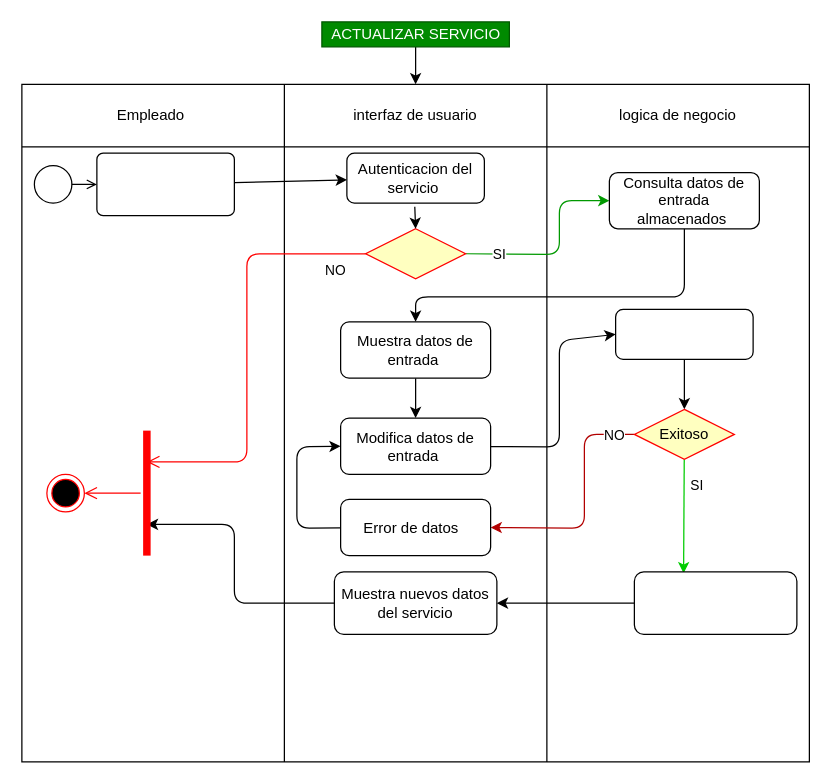
The diagram is 831 pixels wide and 784 high, and some of its shapes have lost their labels. The box of each missing label's shape, as (x1, y1, x2, y2) in pixels:
Almacena datos modificados: (633, 571, 797, 634)
Existe: (364, 228, 466, 279)
Ingresa consultar Servicio: (96, 152, 234, 216)
Valida datos de entrada: (614, 308, 753, 359)
